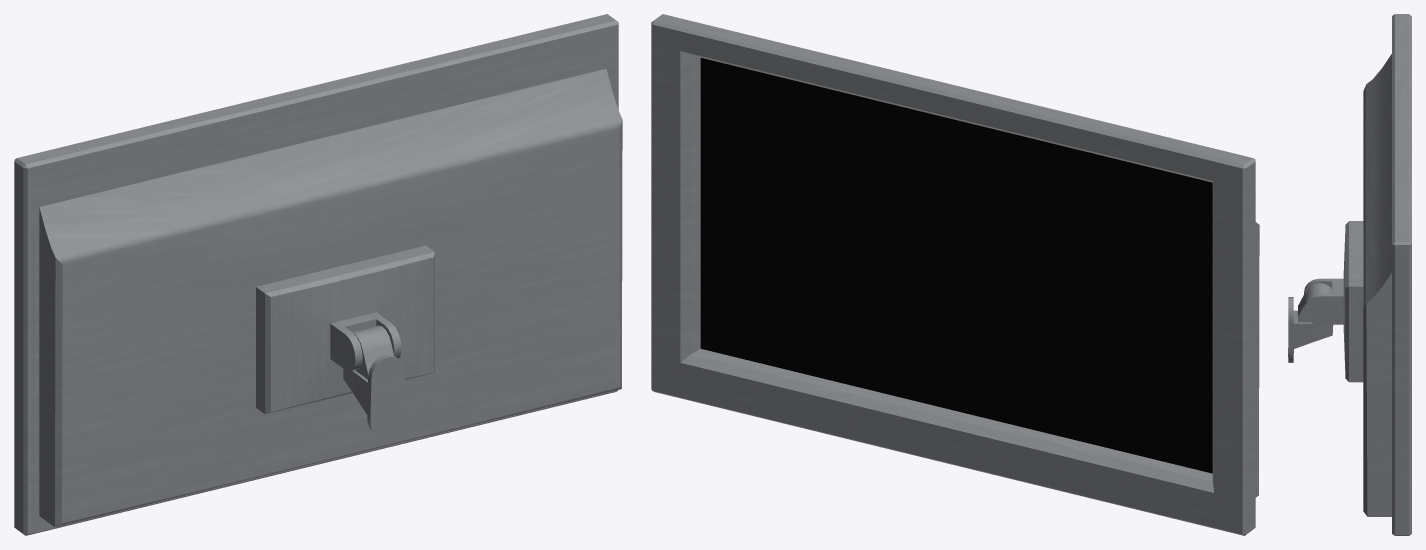
File: Screen.fbx
3 renders of one model, left to right at view 1: azimuth 30°, elevation 25°; view 2: azimuth 150°, elevation 25°; view 3: azimuth 270°, elevation 25°, orthographic. The views are drawn at different scales.
Parts seen in each view (by area): view 1: Screen, Mount; view 2: Screen; view 3: Screen, Mount.
Boxes of the visible parts, <box> form: Screen: <box>14,14,622,535</box>; Mount: <box>343,325,404,437</box>; Screen: <box>651,14,1259,535</box>; Screen: <box>1304,14,1411,535</box>; Mount: <box>1288,283,1333,362</box>.
Bounding box in the file's own units: 0.6937 × 0.4134 × 0.1577.
